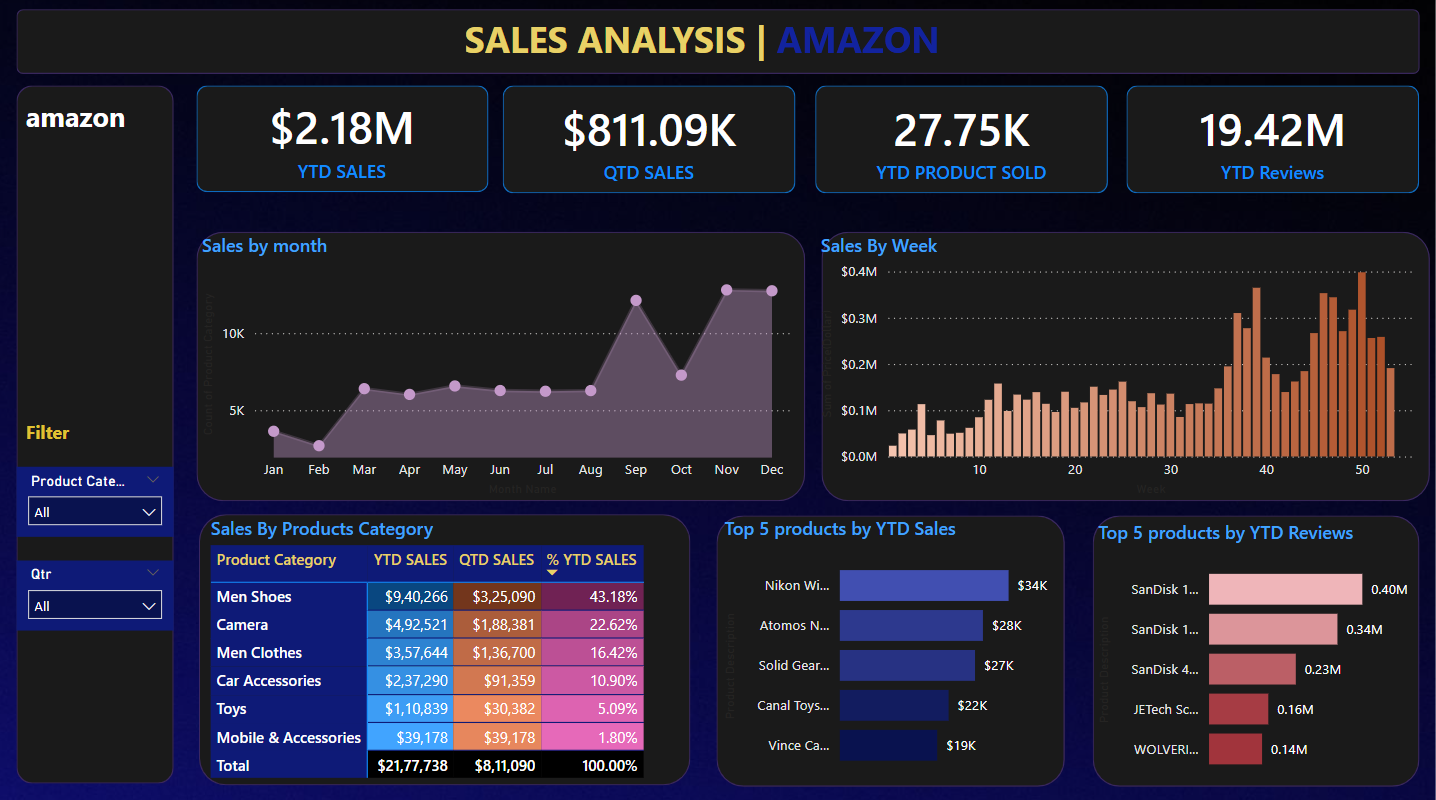

This screenshot's page, from the dashboard's own definition file:
{"tool":"powerbi","page":{"name":"Page 1","canvas":[1280,720],"ordinal":0},"visuals":[{"type":"shape","box":[15.7,9.7,1249.9,57.9],"z":0},{"type":"shape","box":[15.1,78.2,140,621.6],"z":1000},{"type":"shape","box":[175.6,78.2,260,95],"z":2000},{"type":"card","fields":{"Values":["Amazon_Data.YTD SALES"]},"box":[175.6,78.2,259.3,94.7],"z":3000},{"type":"shape","box":[448.7,78.2,260.7,96.1],"z":4000},{"type":"shape","box":[727.3,78.2,260.7,96.1],"z":5000},{"type":"shape","box":[1004.5,78.2,260.7,96.1],"z":6000},{"type":"card","fields":{"Values":["Amazon_Data.QTD SALES"]},"box":[448.7,79.6,260.7,94.7],"z":7000},{"type":"card","fields":{"Values":["Amazon_Data.YTD PRODUCT SOLD"]},"box":[727.3,79.6,260.7,94.7],"z":8000},{"type":"card","fields":{"Values":["Amazon_Data.YTS Reviews"]},"box":[1004.5,79.6,260.7,94.7],"z":9000},{"type":"shape","box":[175.6,208.6,542,240],"z":10000},{"type":"areaChart","title":"Sales by month","fields":{"Category":["Date Table.Month Name"],"Y":["CountNonNull(Amazon_Data.Product Category)"]},"box":[175.6,208.6,533.8,240.1],"z":11000},{"type":"shape","box":[732.8,208.6,542,240.1],"z":12000},{"type":"columnChart","title":"Sales By Week","fields":{"Category":["Date Table.Week"],"Y":["Sum(Amazon_Data.Price(Dollar))"]},"box":[727.3,208.6,542,240.1],"z":13000},{"type":"shape","box":[178.4,459.7,437.7,241.5],"z":14000},{"type":"pivotTable","title":"Sales By Products Category","fields":{"Rows":["Amazon_Data.Product Category"],"Values":["Amazon_Data.YTD SALES1","Amazon_Data.QTD SALES","Amazon_Data.YTD SALES"]},"box":[183.9,461.1,424,240.1],"z":15000},{"type":"shape","box":[639.5,461.1,310.1,241.5],"z":16000},{"type":"shape","box":[974.3,461.1,290.9,241.5],"z":17000},{"type":"barChart","title":"Top 5 products by YTD Sales","fields":{"Category":["Amazon_Data.Product Description"],"Y":["Amazon_Data.YTD SALES"]},"box":[640.8,461.1,308.7,238.8],"z":18000},{"type":"barChart","title":"Top 5 products by YTD Reviews","fields":{"Category":["Amazon_Data.Product Description"],"Y":["Amazon_Data.YTD Reviews"]},"box":[974.3,463.8,290.9,238.8],"z":19000},{"type":"slicer","fields":{"Values":["Amazon_Data.Product Category"]},"box":[15.7,417.4,139.9,62.7],"z":20000},{"type":"slicer","fields":{"Values":["Date Table.Qtr"]},"box":[15.7,500.7,139.9,62.7],"z":21000},{"type":"textbox","box":[19.3,370.4,136.3,35],"z":22000},{"type":"textbox","box":[18.9,84.6,135.8,42.3],"z":23000},{"type":"textbox","box":[410.2,9.7,447.6,57.9],"z":24000}]}

Visuals, with their boxes in screenshot pixels (x1, y1, x2, y2), scaled from the page's 1280x720 canvas onto the 1436x800 screenshot:
shape: rect(18, 11, 1420, 75)
shape: rect(17, 87, 174, 778)
shape: rect(197, 87, 489, 192)
card - Amazon_Data.YTD SALES: rect(197, 87, 488, 192)
shape: rect(503, 87, 796, 194)
shape: rect(816, 87, 1108, 194)
shape: rect(1127, 87, 1419, 194)
card - Amazon_Data.QTD SALES: rect(503, 88, 796, 194)
card - Amazon_Data.YTD PRODUCT SOLD: rect(816, 88, 1108, 194)
card - Amazon_Data.YTS Reviews: rect(1127, 88, 1419, 194)
shape: rect(197, 232, 805, 498)
"Sales by month" areaChart: rect(197, 232, 796, 499)
shape: rect(822, 232, 1430, 499)
"Sales By Week" columnChart: rect(816, 232, 1424, 499)
shape: rect(200, 511, 691, 779)
"Sales By Products Category" pivotTable: rect(206, 512, 682, 779)
shape: rect(717, 512, 1065, 781)
shape: rect(1093, 512, 1419, 781)
"Top 5 products by YTD Sales" barChart: rect(719, 512, 1065, 778)
"Top 5 products by YTD Reviews" barChart: rect(1093, 515, 1419, 781)
slicer - Amazon_Data.Product Category: rect(18, 464, 175, 533)
slicer - Date Table.Qtr: rect(18, 556, 175, 626)
textbox: rect(22, 412, 175, 450)
textbox: rect(21, 94, 174, 141)
textbox: rect(460, 11, 962, 75)
